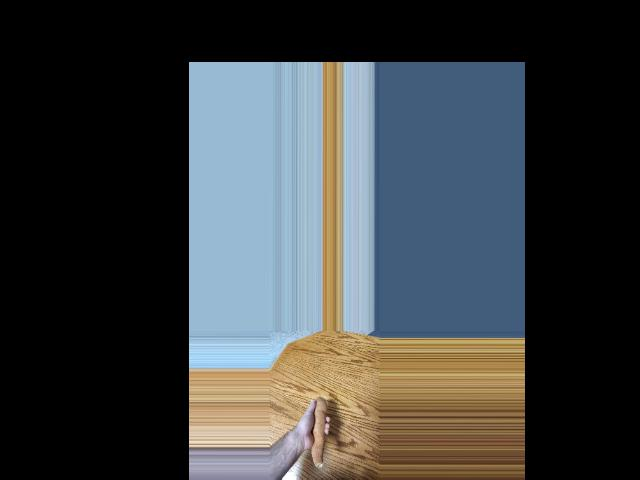sweet_potato: (306, 391, 329, 468)
